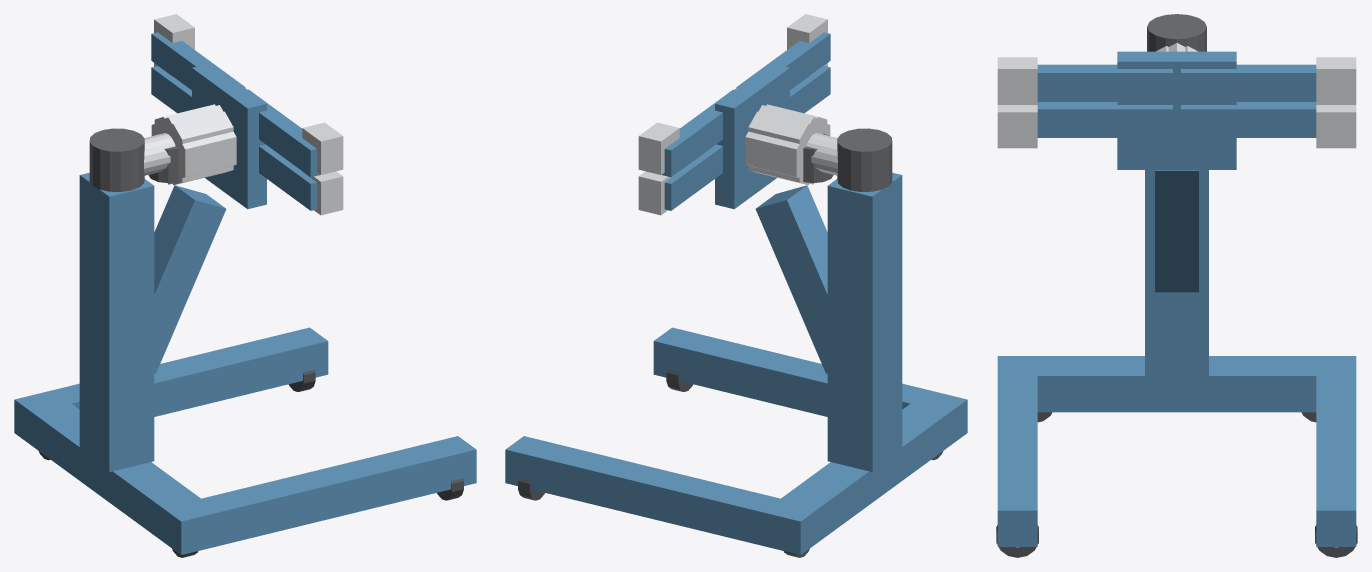
The model's file is car-repair-garage-and-mot-workshop-car-repair-garage-a-64b467a6__34008.glb.
3 renders of one model, left to right at view 1: azimuth 30°, elevation 25°; view 2: azimuth 150°, elevation 25°; view 3: azimuth 270°, elevation 25°, orthographic. The views are drawn at different scales.
Parts seen in each view (by area): view 1: car-repair-garage-and-mot-workshop-engine-stand; view 2: car-repair-garage-and-mot-workshop-engine-stand; view 3: car-repair-garage-and-mot-workshop-engine-stand.
Part boxes in pixels (<box>): car-repair-garage-and-mot-workshop-engine-stand: <box>14,14,476,557</box>; car-repair-garage-and-mot-workshop-engine-stand: <box>505,14,967,557</box>; car-repair-garage-and-mot-workshop-engine-stand: <box>996,14,1357,557</box>.
Bounding box in the file's own units: 0.935 × 1.18 × 0.9072.
